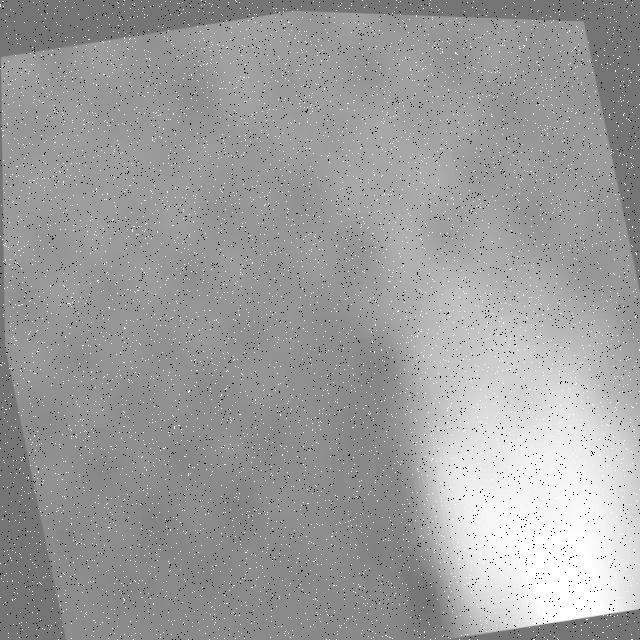person: (337, 213, 640, 640)
